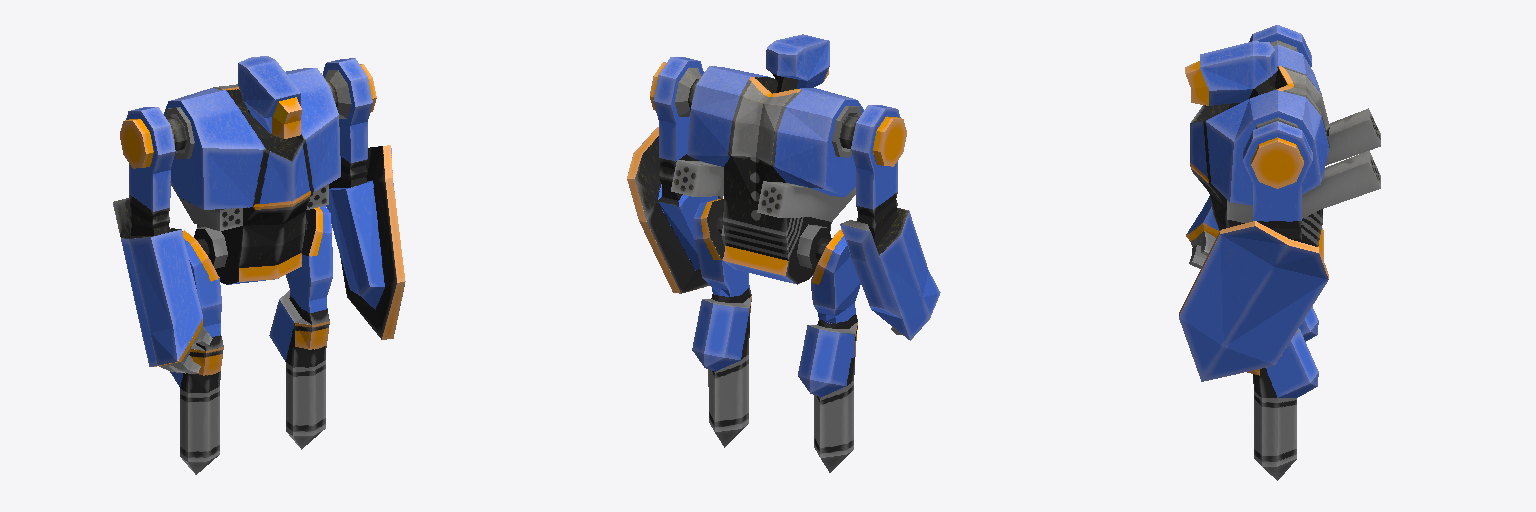
3 renders of one model, left to right at view 1: azimuth 30°, elevation 25°; view 2: azimuth 150°, elevation 25°; view 3: azimuth 270°, elevation 25°, orthographic.
Visible parts, largest first — view 1: Warrior Warrior_Geo; view 2: Warrior Warrior_Geo; view 3: Warrior Warrior_Geo.
Boxes of the visible parts, x1,y1,x2,y2 form: Warrior Warrior_Geo: [113, 56, 405, 474]; Warrior Warrior_Geo: [627, 34, 940, 472]; Warrior Warrior_Geo: [1179, 25, 1380, 480].
Size of the model in its own units: 106 by 159 by 71.68.
Materials: 1 (1 with a texture image).